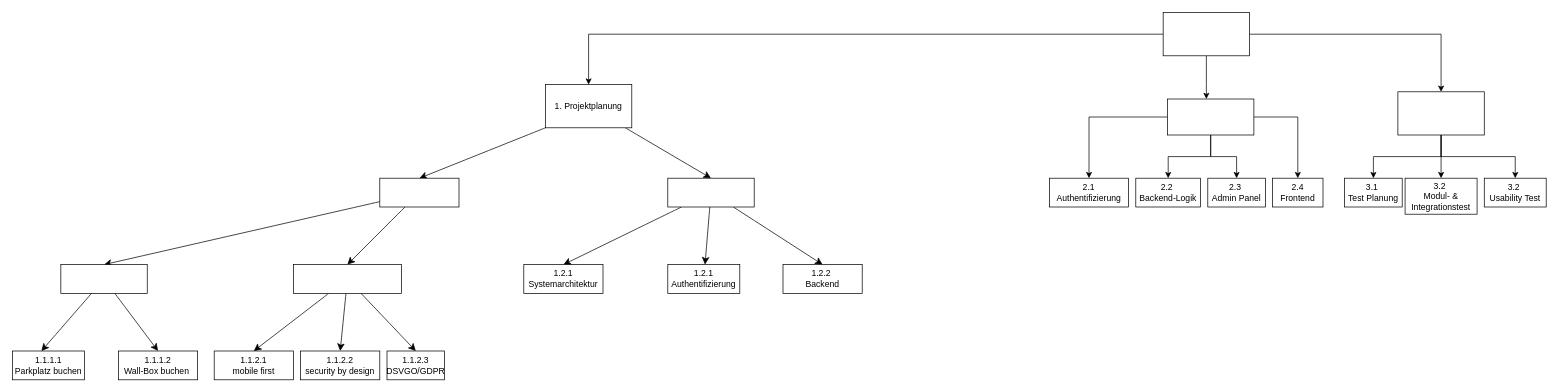
The diagram is 1559 pixels wide and 392 high, and some of its shapes have lost their labels. Here are the shapes that lost their labels. From the top down, the centre of each, then its label:
the point at 1206,34: Parkly
the point at 1210,116: 2. Entwicklung
the point at 1440,113: 3. QS
the point at 419,192: 1.1 Projektanforderung
the point at 710,192: 1.2 Ressourcenplanung
the point at 103,278: 1.1.1 Use-Cases
the point at 347,278: 1.1.2 technische Anfoderungen
